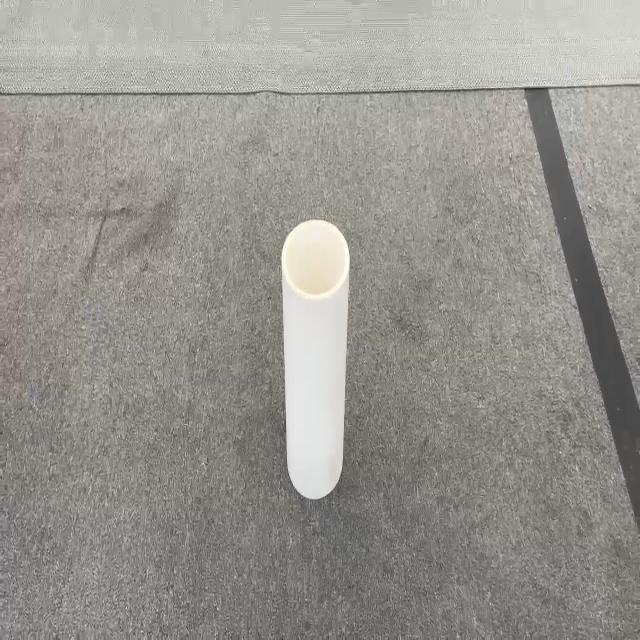coral: (280, 217, 350, 499)
